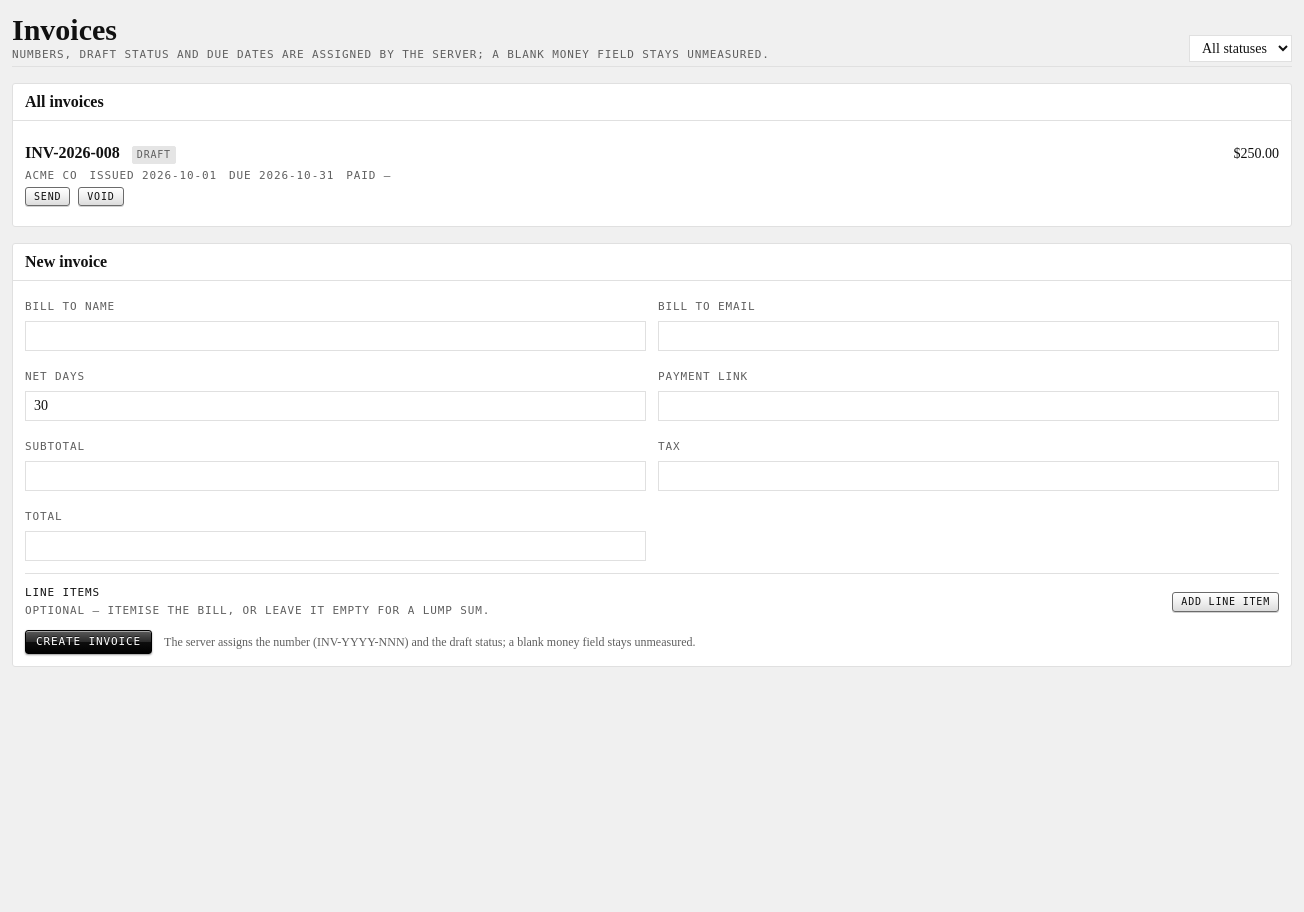
Test: InvoicesPage — send / void (POST /invoices/{id}/send|void) › renders the send refusal by name — the row stays a draft
Click the button "Send". click: click(48, 196)
box: [25,186,70,206]
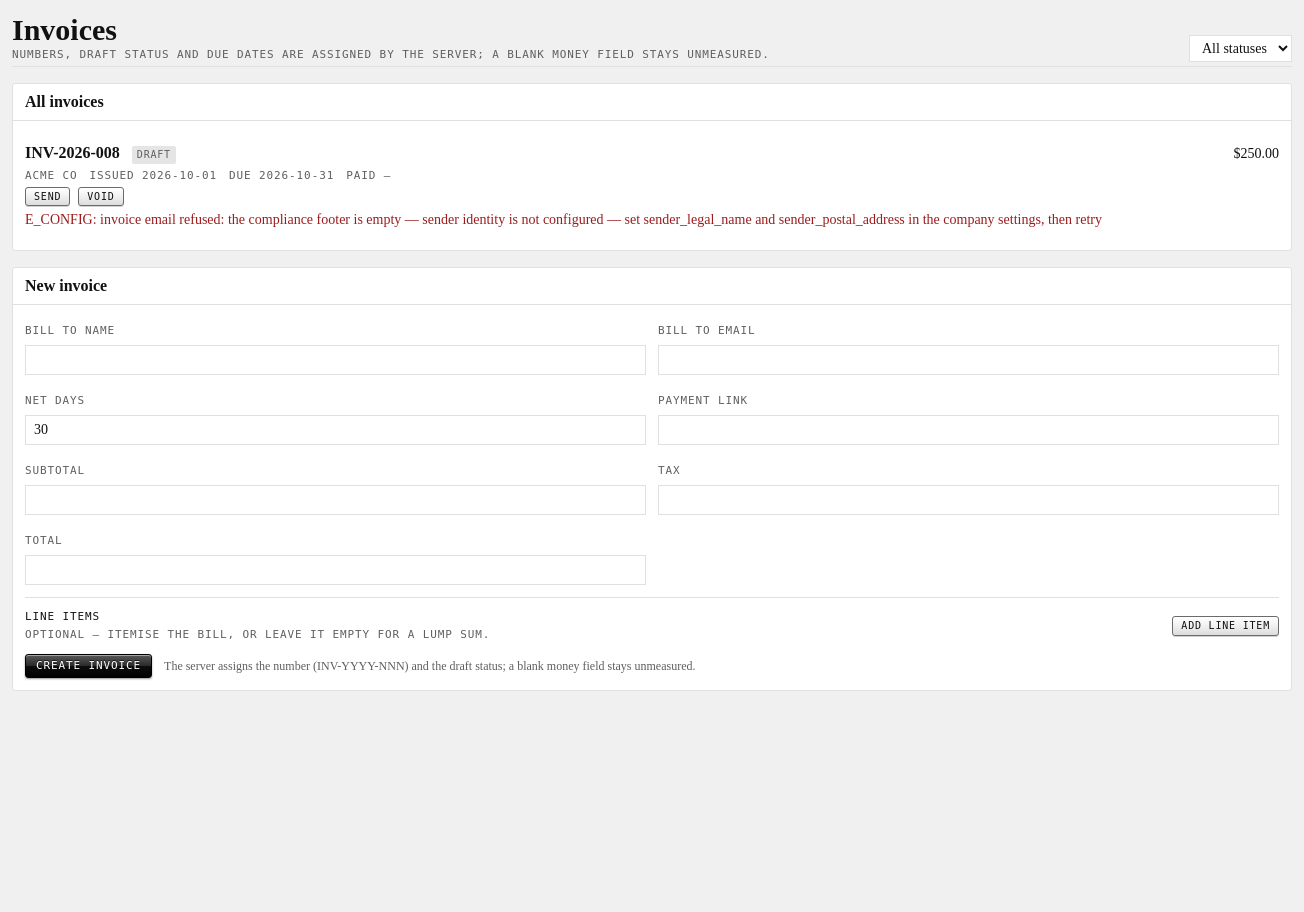
Expected: the text with test id "invoice-status" reads "draft", [137,149,171,160]
Expected: the message with test id "invoice-action-error-8" shows "E_CONFIG: invoice email refused: the compliance footer is empty — sender identity is not configured — set sender_legal_name and sender_postal_address in the com", [25,212,1102,227]
